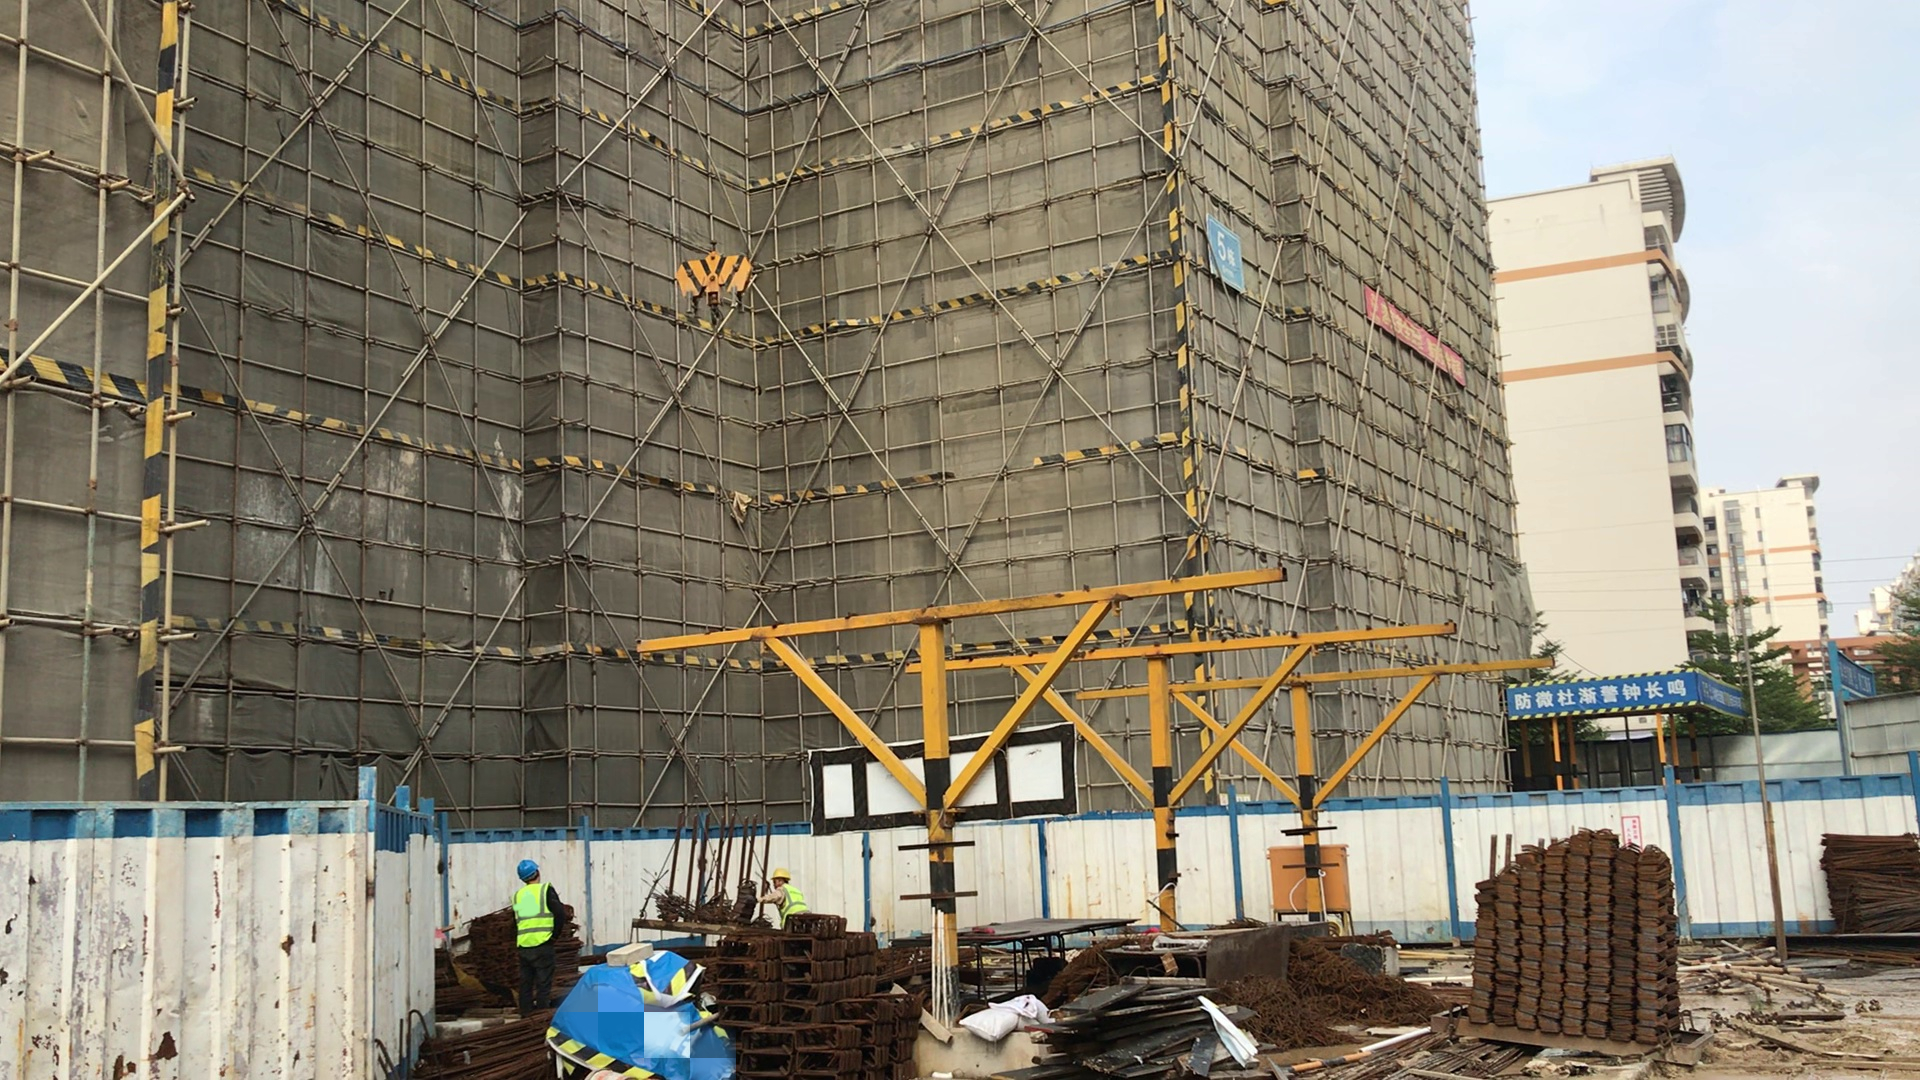helmet: (513, 854, 543, 883), (771, 863, 795, 885)
hook: (666, 241, 767, 341)
person: (504, 858, 556, 1018), (756, 865, 819, 928)
rebar: (1803, 816, 1920, 924), (424, 1021, 558, 1080)
slogan: (1511, 663, 1743, 753), (1357, 254, 1486, 416)
vest: (514, 884, 555, 949), (768, 881, 810, 923)
